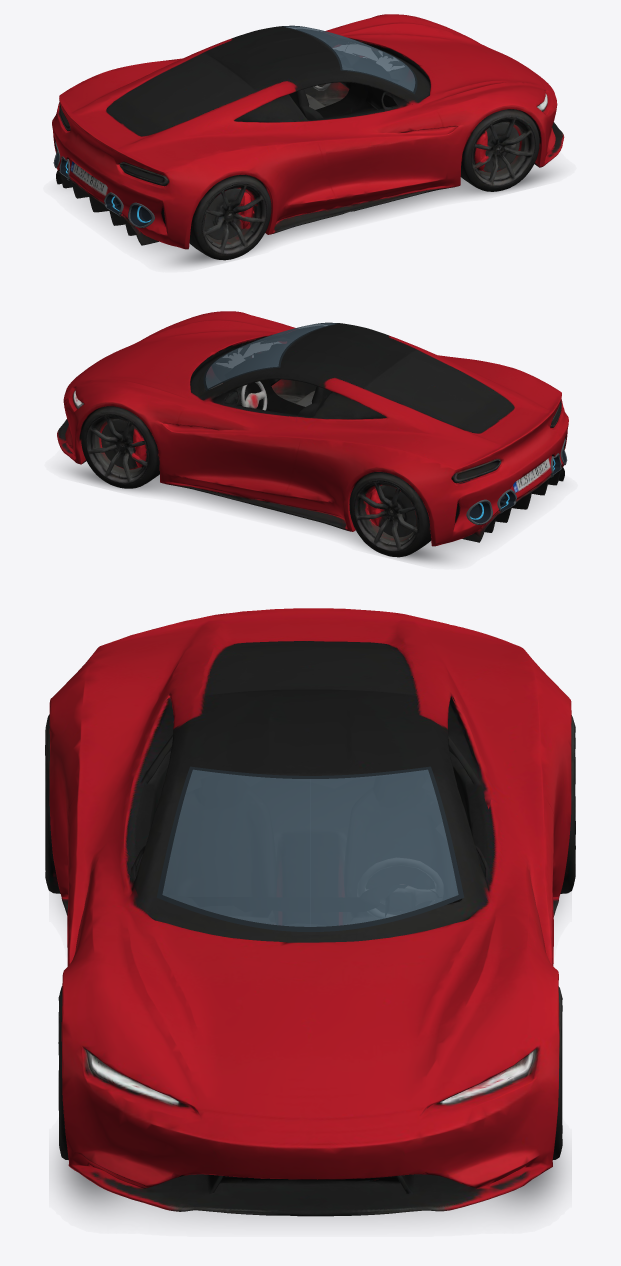
The model's file is roadster-v3-model.glb.
3 views of the same model, one above another, from view 1: azimuth 30°, elevation 25°; view 2: azimuth 150°, elevation 25°; view 3: azimuth 270°, elevation 25° (orthographic). The views are drawn at different scales.
Parts seen in each view (by area): view 1: tripo_node_66e69843-7ea6-4ede-aa26-b6ba2a6d8b9e, Roadster rear thruster 4; view 2: tripo_node_66e69843-7ea6-4ede-aa26-b6ba2a6d8b9e, Roadster rear thruster 1; view 3: tripo_node_66e69843-7ea6-4ede-aa26-b6ba2a6d8b9e.
Boxes of the visible parts, x1=… form: tripo_node_66e69843-7ea6-4ede-aa26-b6ba2a6d8b9e: x1=52, y1=14, x2=564, y2=266; Roadster rear thruster 4: x1=128, y1=202, x2=154, y2=227; tripo_node_66e69843-7ea6-4ede-aa26-b6ba2a6d8b9e: x1=57, y1=311, x2=568, y2=563; Roadster rear thruster 1: x1=466, y1=499, x2=492, y2=524; tripo_node_66e69843-7ea6-4ede-aa26-b6ba2a6d8b9e: x1=45, y1=608, x2=575, y2=1216.
Size of the model in its own units: 1.02 by 0.2862 by 0.5073.
7 materials, 2 textured.
